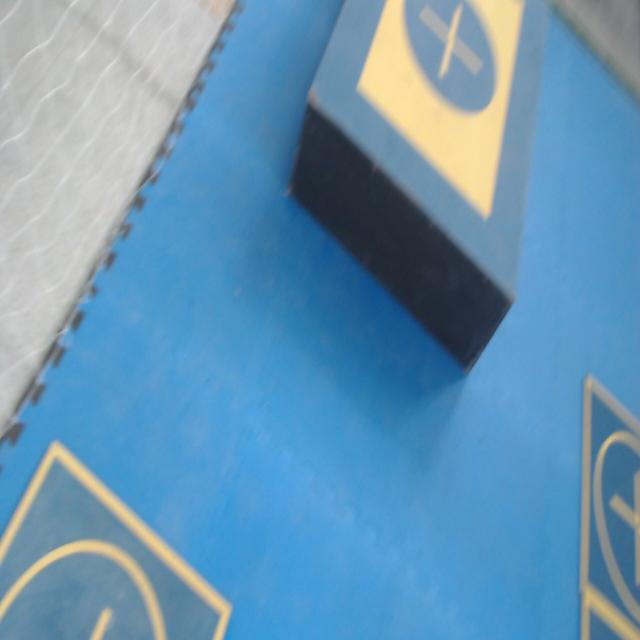base_inicio: (357, 0, 526, 221)
base_pouso: (0, 439, 233, 639), (577, 375, 640, 636), (580, 593, 640, 639)
